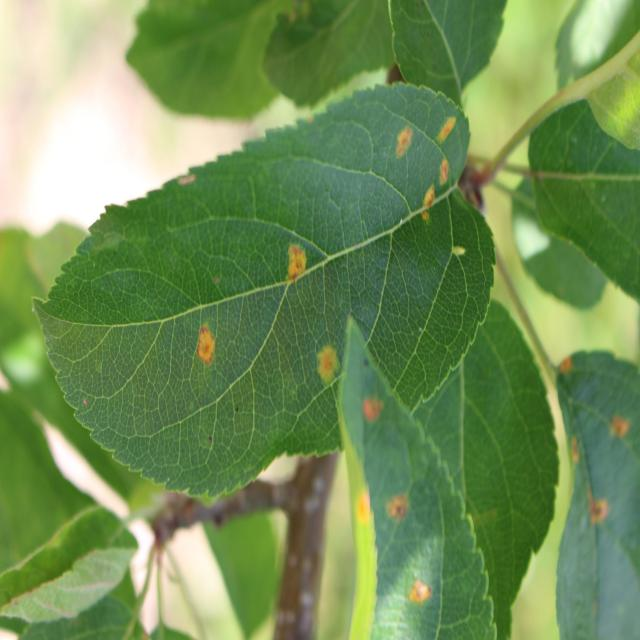rust: (29, 83, 496, 503), (339, 317, 496, 640)
